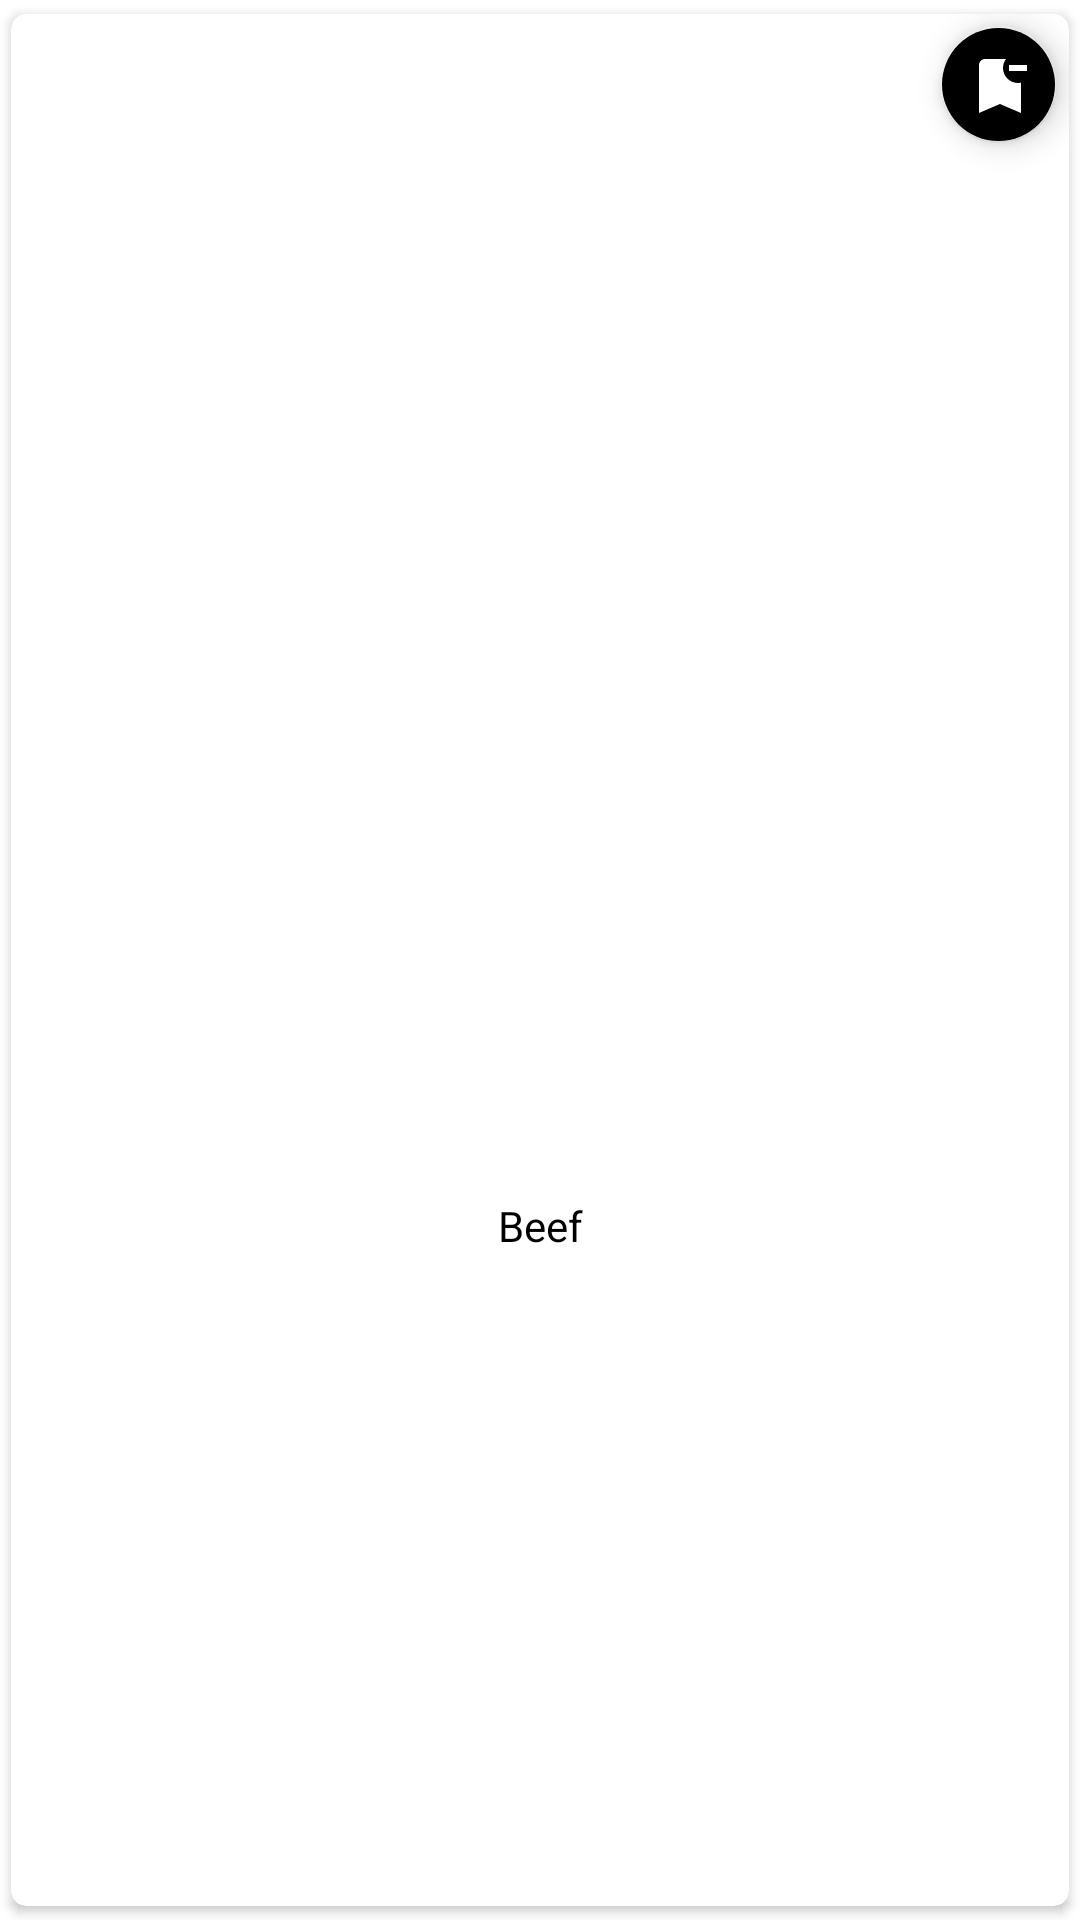

Where to tap for icons on this 1080px×1920px app screen, as (x,y):
bookmark remove: (1000,85)
